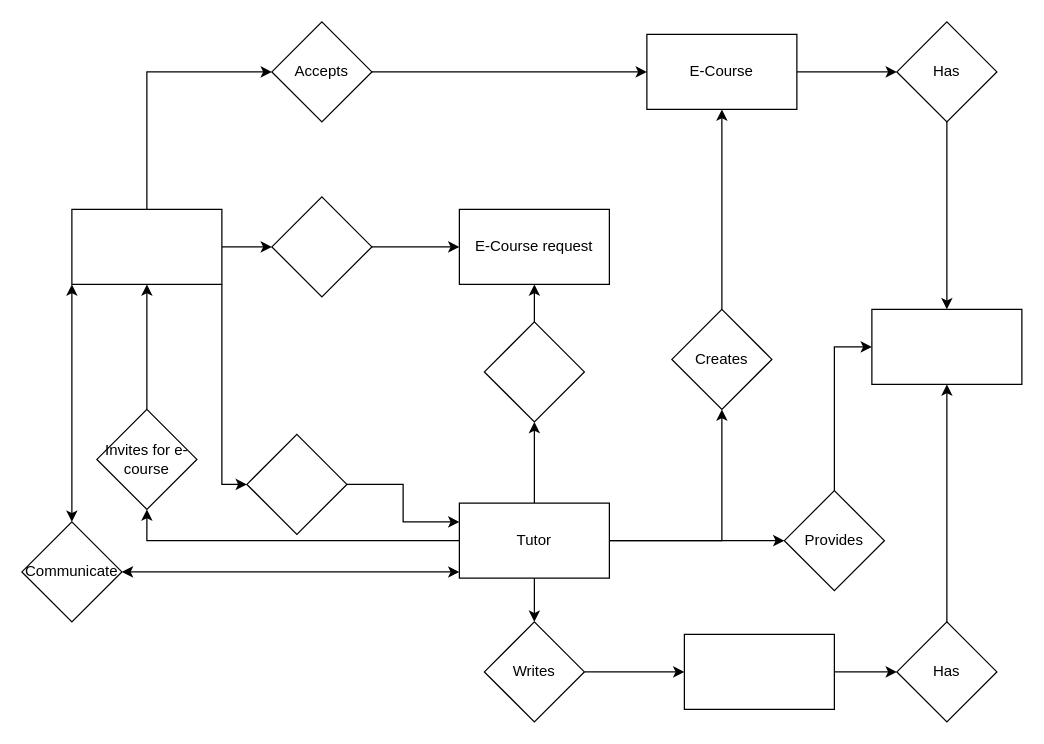
The diagram is 1044 pixels wide and 744 high, and some of its shapes have lost their labels. The shapes that lost their labels are listed below. From the top down, each one's box as (x1, y1, x2, y2) in pixels, then its label:
(71, 208, 222, 284): Client
(271, 196, 372, 297): Requests
(871, 308, 1022, 384): Learning materials
(483, 321, 584, 422): Seeks & Accepts
(246, 433, 347, 534): Gives feedback
(683, 633, 834, 709): Blog
